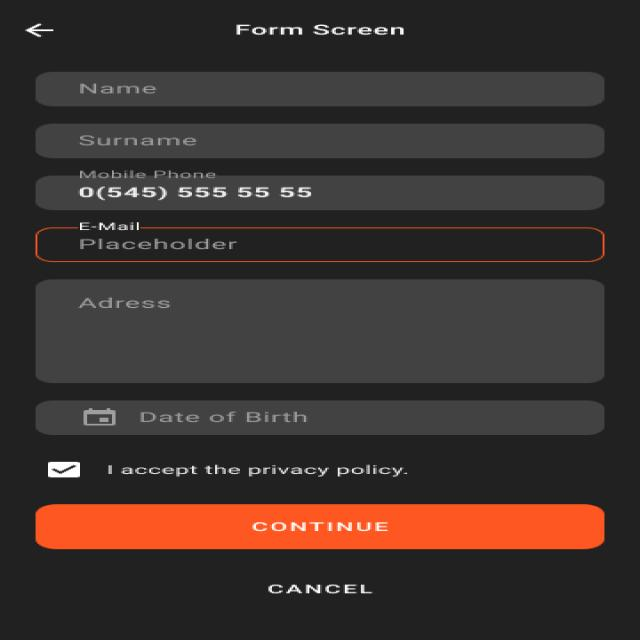QLabel: (227, 21, 410, 38), (260, 582, 374, 596)
VAppBar: (0, 0, 640, 53)
VBtn: (31, 503, 607, 551), (34, 574, 606, 606)
VCheckbox: (41, 460, 412, 480)
VIcon: (18, 20, 60, 40)
VInlineDatepicker: (33, 400, 608, 436)
VTextField: (32, 170, 606, 212), (33, 222, 606, 263), (34, 122, 602, 161), (30, 70, 608, 108)
VTextarea: (31, 276, 609, 386)
